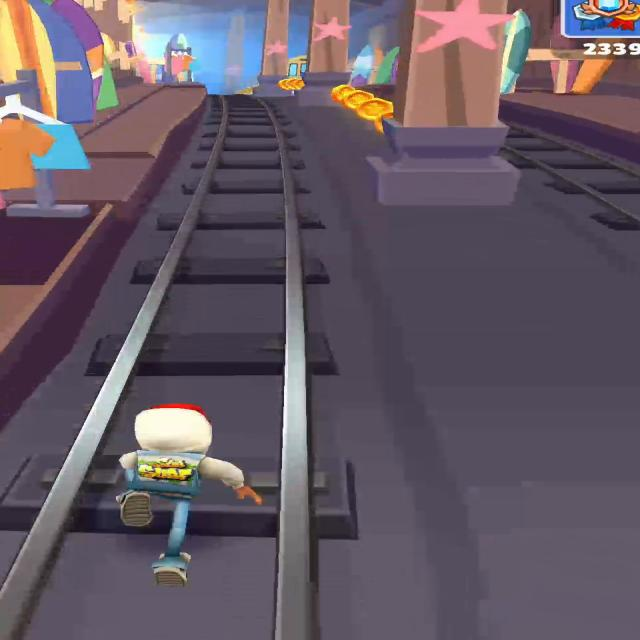block pillar: (365, 0, 519, 206), (297, 0, 350, 108), (258, 0, 288, 97), (224, 12, 245, 93)
train: (288, 55, 306, 76)
